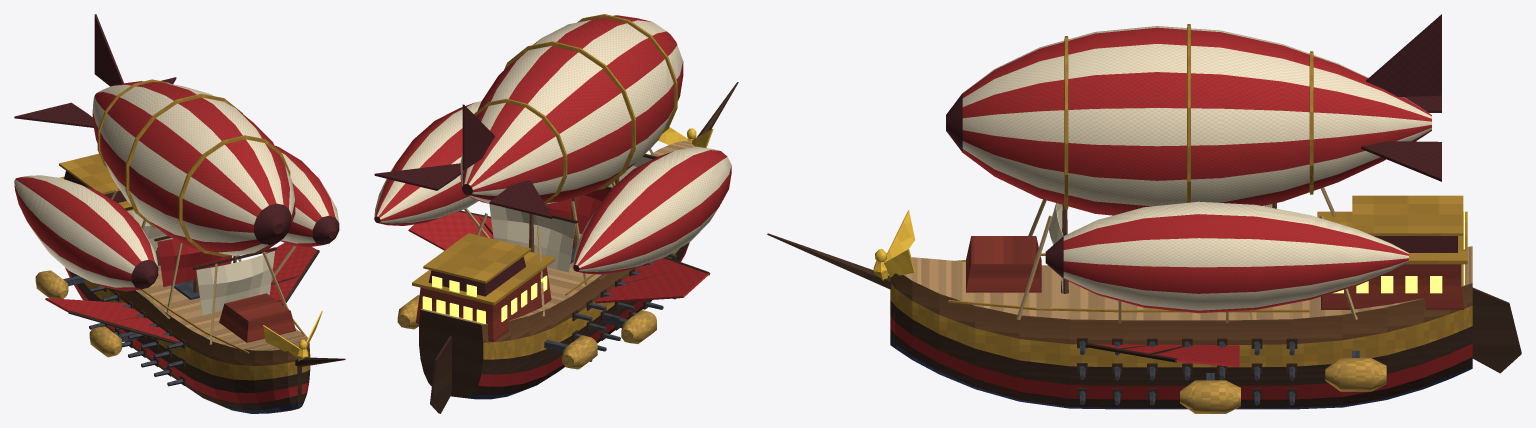
Rendered from SM_Ship_SovereignGale_HQ.glb.
3 views of the same model, side by side, from view 1: azimuth 30°, elevation 25°; view 2: azimuth 150°, elevation 25°; view 3: azimuth 270°, elevation 25° (orthographic). The views are drawn at different scales.
Parts seen in each view (by area): view 1: SM_Ship_SovereignGale_HQ; view 2: SM_Ship_SovereignGale_HQ; view 3: SM_Ship_SovereignGale_HQ.
Boxes of the visible parts, x1=… form: SM_Ship_SovereignGale_HQ: x1=14, y1=14, x2=345, y2=413; SM_Ship_SovereignGale_HQ: x1=374, y1=14, x2=738, y2=413; SM_Ship_SovereignGale_HQ: x1=767, y1=14, x2=1521, y2=413.
Bounding box in the file's own units: 25.58 × 27.6 × 49.23.
Materials: 1 (1 with a texture image).
